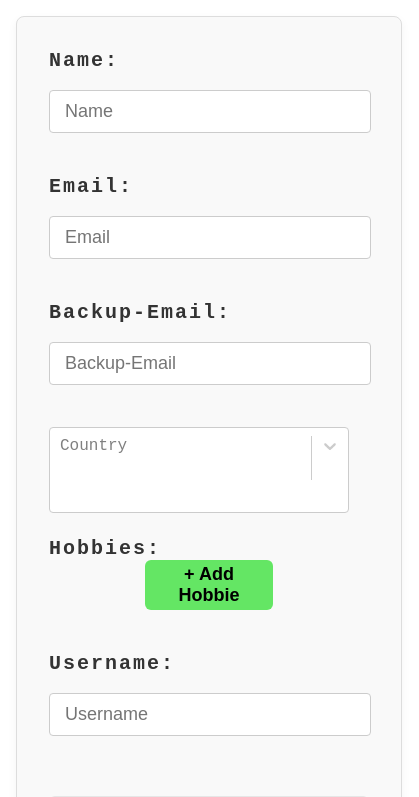
Test: add hobbies
This screenshot has width=419, height=797.
Click the button "+ Add Hobbie" at (209, 585), box [145,560,273,610]
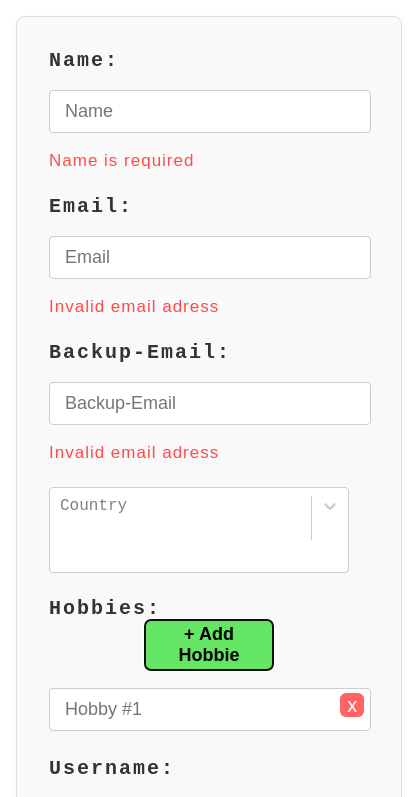
Check: the number of fields with placeholder "Hobby #1" is 1, box [49,688,371,731]
